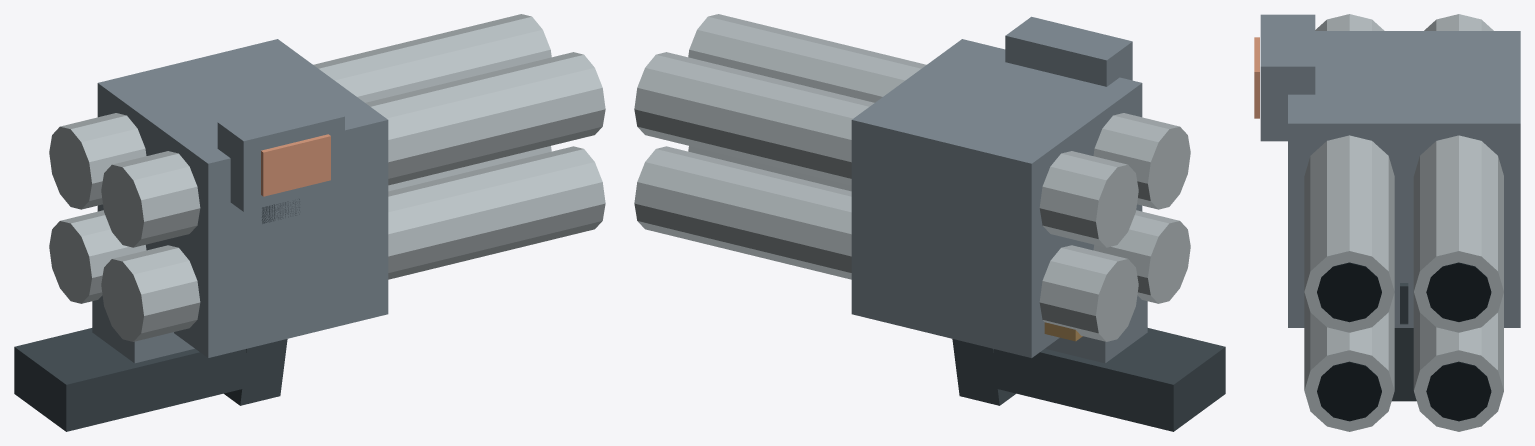
File: w20-widow-choir-static.glb
3 views of the same model, side by side, from view 1: azimuth 30°, elevation 25°; view 2: azimuth 150°, elevation 25°; view 3: azimuth 270°, elevation 25° (orthographic). The views are drawn at different scales.
Visible parts, largest first — view 1: w20-widow-choir__tube_cluster_frame.001, w20-widow-choir__launch_tube_2.001, w20-widow-choir__launch_tube_0.001, w20-widow-choir__launch_tube_3.001, w20-widow-choir__shoulder_rest.001, w20-widow-choir__targeting_unit.001, w20-widow-choir__launch_tube_1.001, w20-widow-choir__sight_glass.001, w20-widow-choir__grip.001, w20-widow-choir__shoulder_rest_mount.001; view 2: w20-widow-choir__tube_cluster_frame.001, w20-widow-choir__launch_tube_3.001, w20-widow-choir__launch_tube_1.001, w20-widow-choir__launch_tube_2.001, w20-widow-choir__shoulder_rest.001, w20-widow-choir__targeting_unit.001, w20-widow-choir__launch_tube_0.001, w20-widow-choir__grip.001, w20-widow-choir__shoulder_rest_mount.001; view 3: w20-widow-choir__tube_cluster_frame.001, w20-widow-choir__launch_tube_3.001, w20-widow-choir__launch_tube_2.001, w20-widow-choir__launch_tube_1.001, w20-widow-choir__launch_tube_0.001, w20-widow-choir__targeting_unit.001, w20-widow-choir__launch_tube_3_bore.001, w20-widow-choir__launch_tube_0_bore.001, w20-widow-choir__launch_tube_1_bore.001, w20-widow-choir__launch_tube_2_bore.001, w20-widow-choir__grip.001, w20-widow-choir__sight_glass.001 (+1 smaller).
Boxes of the visible parts, x1,y1,x2,y2 form: w20-widow-choir__tube_cluster_frame.001: [97, 39, 388, 357]; w20-widow-choir__launch_tube_2.001: [101, 52, 605, 247]; w20-widow-choir__launch_tube_0.001: [101, 146, 605, 341]; w20-widow-choir__launch_tube_3.001: [49, 14, 551, 209]; w20-widow-choir__shoulder_rest.001: [14, 328, 246, 431]; w20-widow-choir__targeting_unit.001: [217, 97, 344, 211]; w20-widow-choir__launch_tube_1.001: [49, 146, 551, 303]; w20-widow-choir__sight_glass.001: [261, 134, 330, 196]; w20-widow-choir__grip.001: [224, 339, 287, 405]; w20-widow-choir__shoulder_rest_mount.001: [92, 295, 194, 363]; w20-widow-choir__tube_cluster_frame.001: [851, 39, 1142, 357]; w20-widow-choir__launch_tube_3.001: [634, 52, 1138, 247]; w20-widow-choir__launch_tube_1.001: [634, 146, 1138, 341]; w20-widow-choir__launch_tube_2.001: [688, 14, 1190, 209]; w20-widow-choir__shoulder_rest.001: [993, 328, 1225, 431]; w20-widow-choir__targeting_unit.001: [1005, 16, 1132, 86]; w20-widow-choir__launch_tube_0.001: [688, 146, 1190, 303]; w20-widow-choir__grip.001: [952, 339, 1015, 405]; w20-widow-choir__shoulder_rest_mount.001: [1045, 295, 1147, 363]; w20-widow-choir__tube_cluster_frame.001: [1288, 31, 1520, 327]; w20-widow-choir__launch_tube_3.001: [1413, 14, 1503, 332]; w20-widow-choir__launch_tube_2.001: [1304, 14, 1394, 332]; w20-widow-choir__launch_tube_1.001: [1413, 292, 1503, 431]; w20-widow-choir__launch_tube_0.001: [1304, 292, 1394, 431]; w20-widow-choir__targeting_unit.001: [1260, 14, 1315, 141]; w20-widow-choir__launch_tube_3_bore.001: [1426, 262, 1491, 321]; w20-widow-choir__launch_tube_0_bore.001: [1317, 361, 1381, 421]; w20-widow-choir__launch_tube_1_bore.001: [1426, 361, 1491, 421]; w20-widow-choir__launch_tube_2_bore.001: [1317, 262, 1381, 322]; w20-widow-choir__grip.001: [1392, 328, 1416, 401]; w20-widow-choir__sight_glass.001: [1254, 37, 1259, 118].
Size of the model in its own units: 0.923 by 0.5448 by 0.389.
